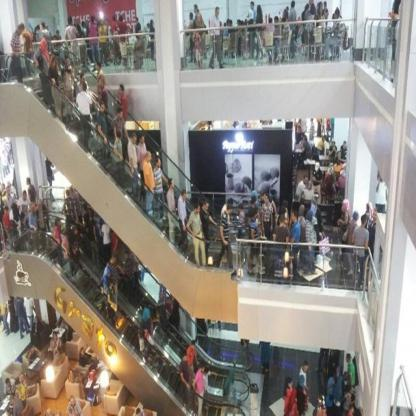face: (20, 375, 25, 386), (71, 399, 76, 407), (101, 105, 106, 113), (66, 62, 71, 70), (292, 214, 296, 223), (343, 203, 347, 212), (289, 382, 294, 389), (21, 28, 25, 36), (59, 221, 63, 228), (305, 366, 309, 373), (173, 181, 176, 190), (206, 203, 209, 212), (76, 242, 79, 251), (335, 12, 338, 20), (141, 137, 145, 143), (198, 207, 201, 215), (115, 256, 118, 264), (185, 356, 188, 364), (16, 385, 20, 391), (82, 77, 85, 85), (321, 5, 324, 12), (120, 88, 123, 95), (41, 24, 44, 31), (134, 138, 137, 145), (149, 155, 152, 162), (158, 160, 161, 167), (374, 213, 377, 220), (203, 367, 206, 374), (54, 334, 57, 341), (33, 345, 36, 352), (195, 7, 198, 14), (196, 33, 199, 40), (97, 63, 100, 70), (7, 189, 10, 196), (275, 19, 278, 25), (252, 5, 255, 11), (121, 113, 124, 119), (266, 197, 269, 203), (306, 178, 309, 184), (258, 211, 261, 217), (333, 143, 336, 149), (339, 152, 342, 158), (24, 194, 27, 200), (24, 206, 27, 212), (83, 350, 86, 356), (129, 29, 132, 35), (218, 9, 220, 17), (347, 356, 349, 364), (102, 24, 105, 29), (34, 207, 37, 212), (309, 184, 311, 191), (256, 199, 258, 206), (324, 4, 327, 8), (230, 22, 232, 28), (184, 194, 186, 200), (231, 209, 233, 215), (299, 21, 301, 26), (107, 22, 109, 27), (345, 143, 347, 148), (194, 345, 196, 350), (139, 34, 141, 39), (149, 24, 151, 29), (27, 180, 29, 185), (58, 33, 60, 37), (150, 304, 152, 308), (311, 120, 313, 123), (153, 22, 154, 27)
